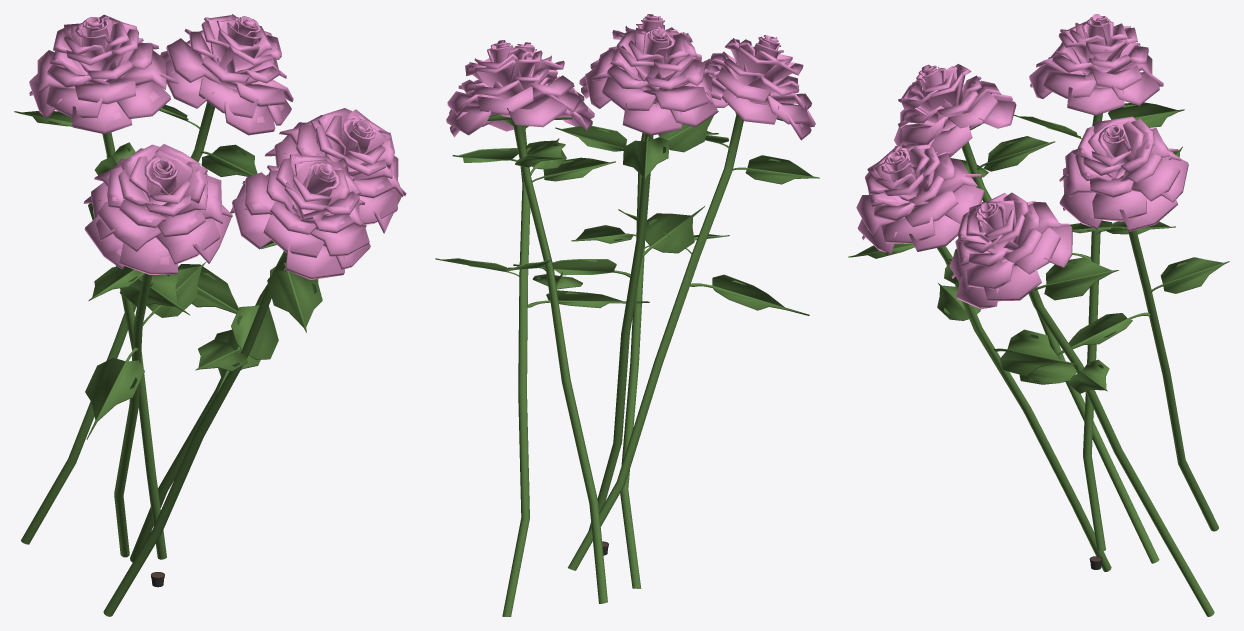
File: roses.fbx
3 renders of one model, left to right at view 1: azimuth 30°, elevation 25°; view 2: azimuth 150°, elevation 25°; view 3: azimuth 270°, elevation 25°, orthographic. The views are drawn at different scales.
Parts seen in each view (by area): view 1: Cube.014; view 2: Cube.014; view 3: Cube.014.
Boxes of the visible parts, x1,y1,x2,y2 form: Cube.014: (14, 14, 406, 616); Cube.014: (435, 14, 819, 616); Cube.014: (848, 14, 1229, 616).
Bounding box in the file's own units: 210 × 357 × 223.
